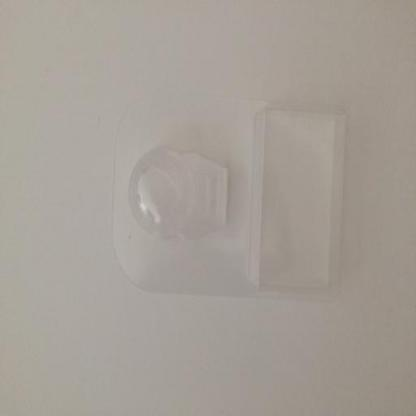trash: (112, 96, 350, 300)
